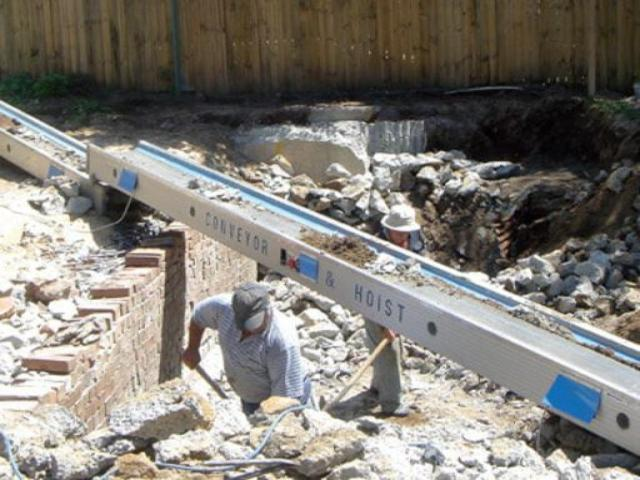conveyor: (0, 91, 640, 441)
